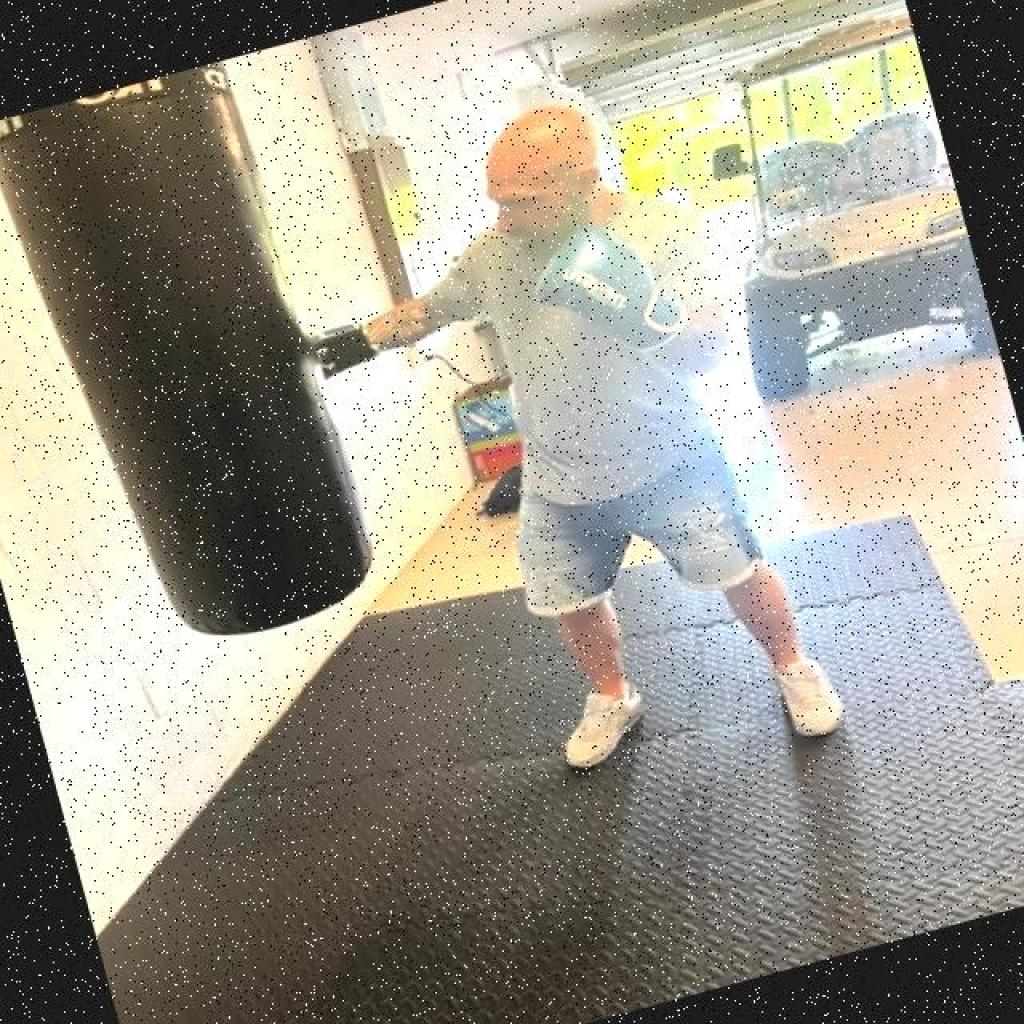hook: (206, 67, 760, 498)
